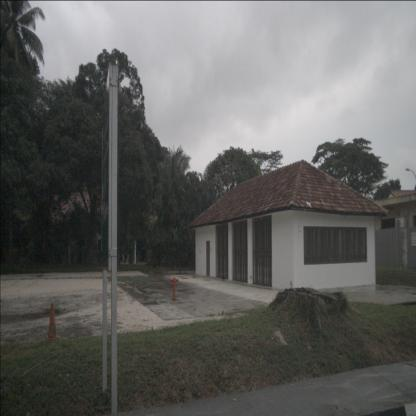movable_object-trafficcone: (46, 302, 60, 340)
